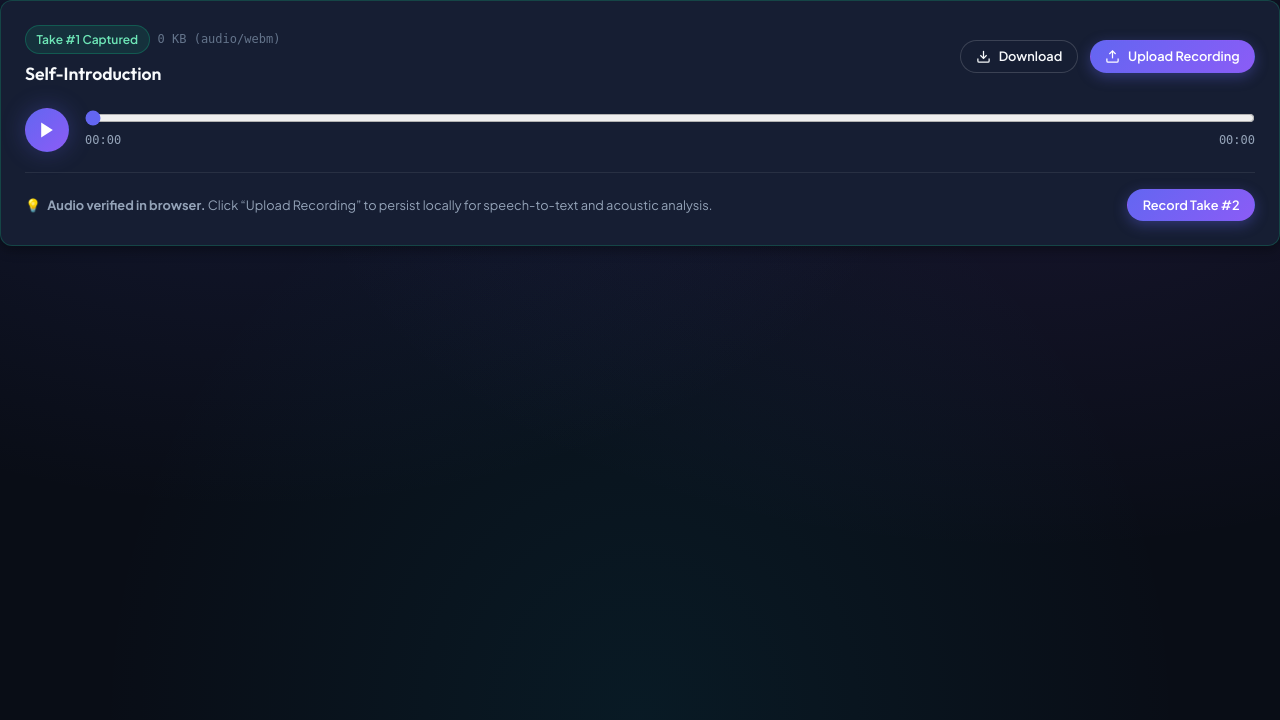
Test case: AudioPlayer Component › displays error banner on upload failure while preserving playback controls
The width and height of the screenshot is (1280, 720).
What coordinates should you click on to do the following:
click the button "Upload Recording"
I would click on:
 (1172, 56)
Its box is left=1090, top=40, right=1255, bottom=73.
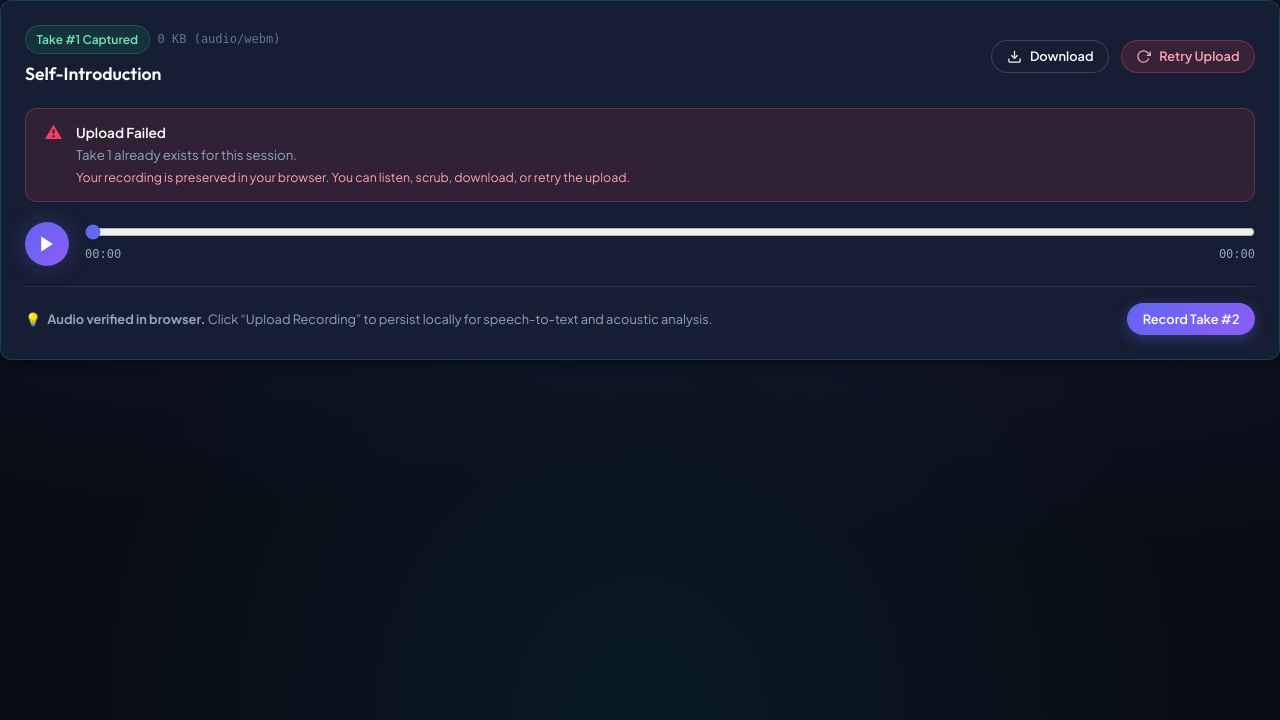
Now the message is shown, box left=25, top=108, right=1255, bottom=202
Now the text "Take 1 already exists for this session." is shown, box left=76, top=146, right=297, bottom=163
Now the button "Retry Upload" is shown, box left=1121, top=40, right=1255, bottom=73
